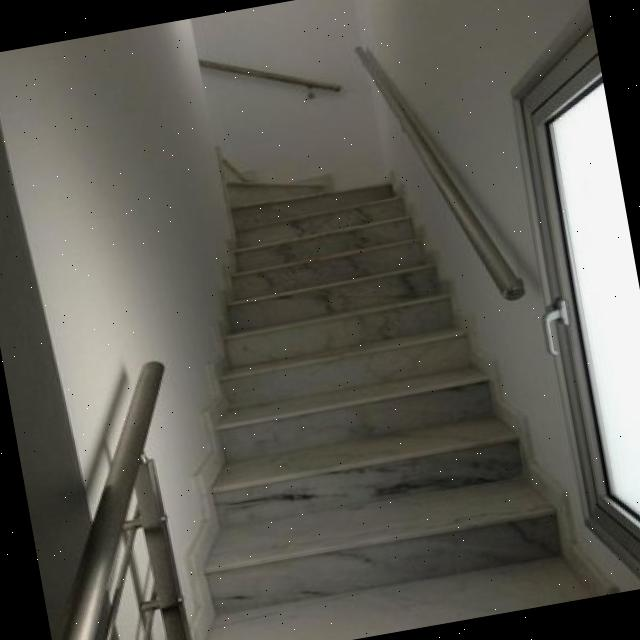stairs: (105, 92, 617, 640)
